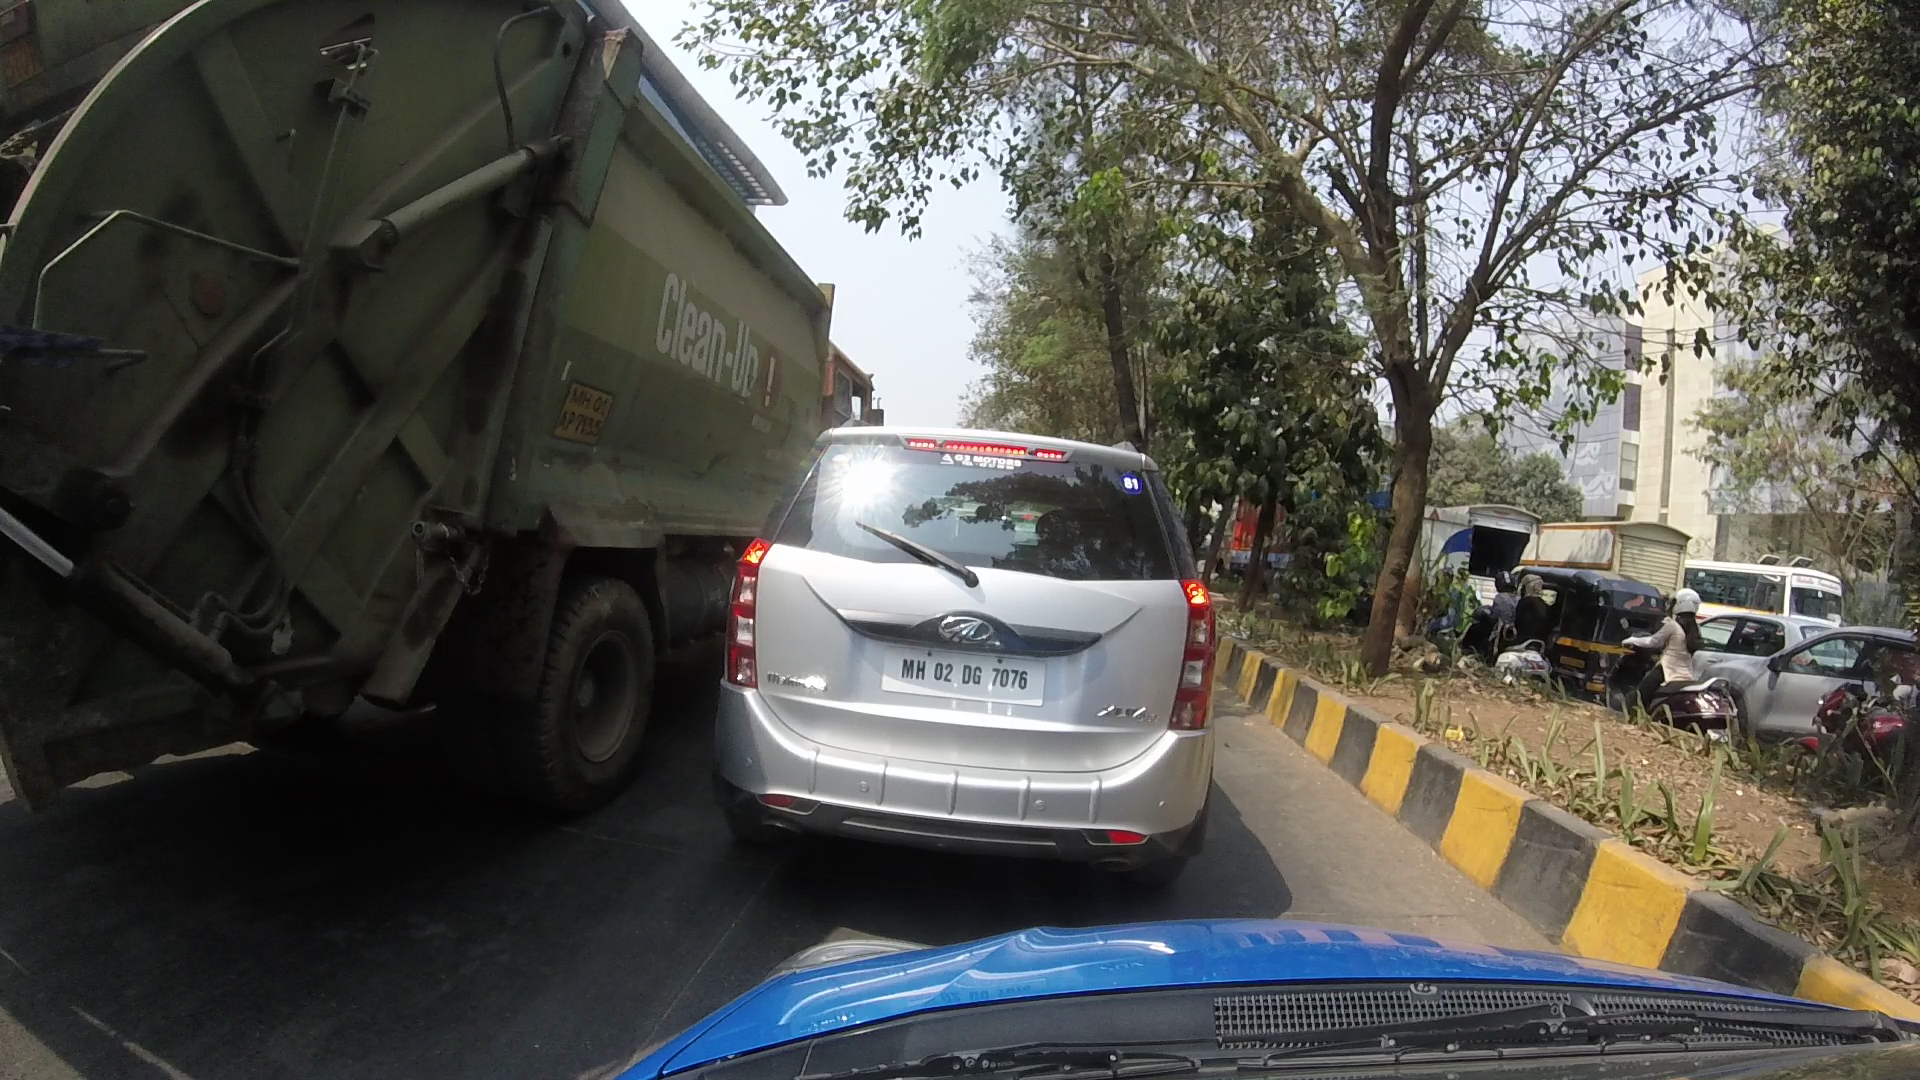bike/scooter: (1607, 592, 1749, 733), (1787, 680, 1920, 787), (1477, 564, 1545, 695)
bus: (1672, 551, 1847, 618)
car: (702, 375, 1257, 860), (1696, 624, 1920, 735)
rickshaw: (1513, 560, 1648, 684)
truck: (15, 7, 880, 848), (1540, 516, 1688, 600), (1429, 497, 1545, 592)
